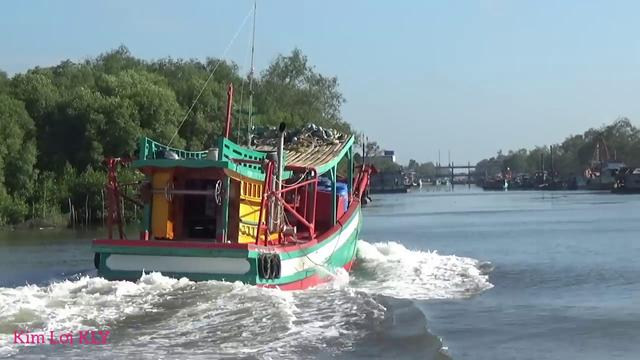Ship: (87, 119, 376, 298)
